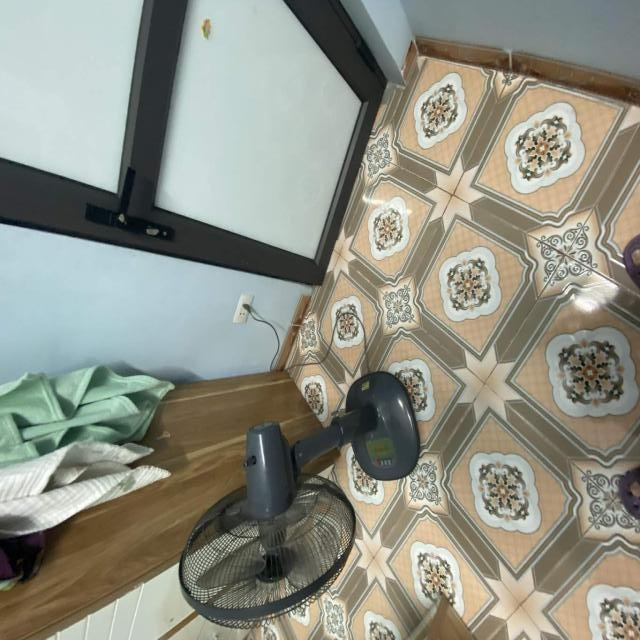outlet: (233, 295, 254, 325)
